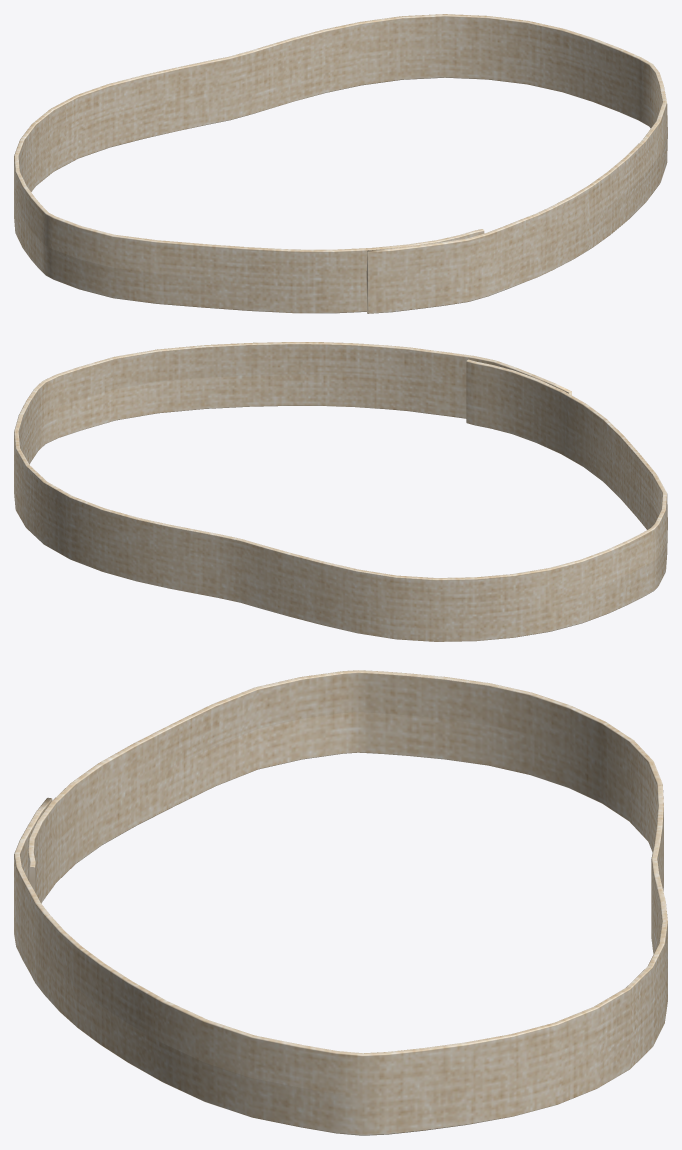
The model's file is 4cm standard_hidden_button.glb.
3 views of the same model, one above another, from view 1: azimuth 30°, elevation 25°; view 2: azimuth 150°, elevation 25°; view 3: azimuth 270°, elevation 25° (orthographic). The views are drawn at different scales.
Parts seen in each view (by area): view 1: standard_hidden_button_4cm; view 2: standard_hidden_button_4cm; view 3: standard_hidden_button_4cm.
Part boxes in pixels (left/top/right/bottom): standard_hidden_button_4cm: left=14, top=14, right=667, bottom=313; standard_hidden_button_4cm: left=14, top=342, right=667, bottom=641; standard_hidden_button_4cm: left=14, top=670, right=667, bottom=1135.
Size of the model in its own units: 0.047 by 0.0046 by 0.0336.
1 material, 1 textured.
